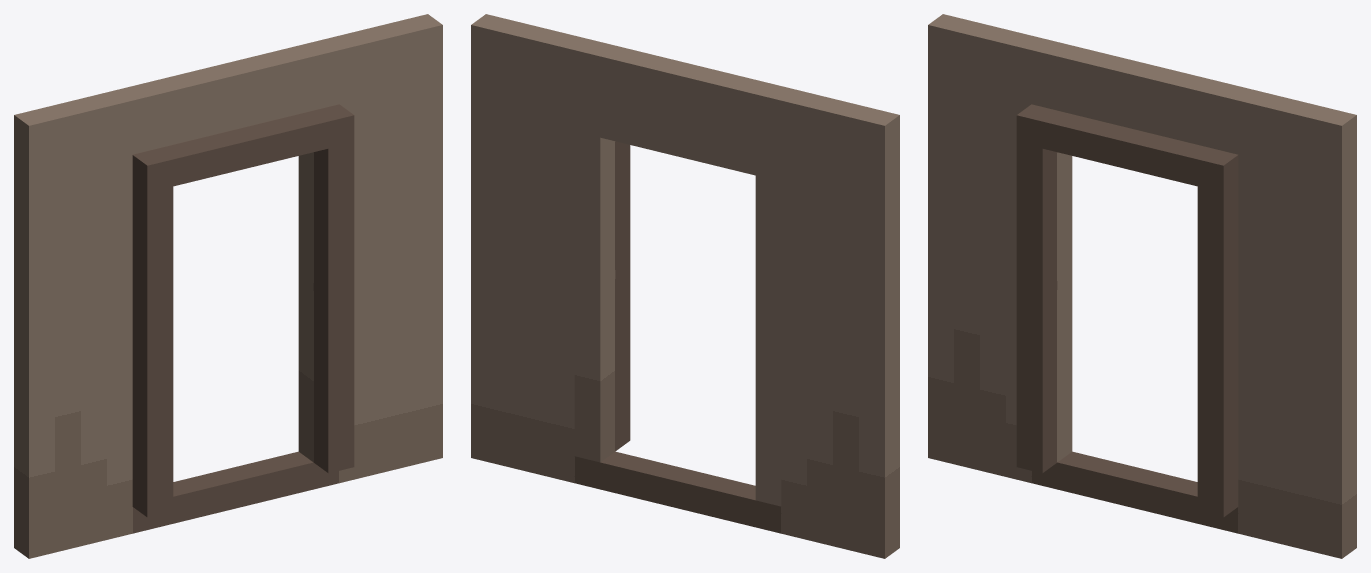
Rendered from wall_door_02.fbx.
3 views of the same model, side by side, from view 1: azimuth 30°, elevation 25°; view 2: azimuth 150°, elevation 25°; view 3: azimuth 330°, elevation 25° (orthographic).
Parts seen in each view (by area): view 1: wall_door_02_0; view 2: wall_door_02_0; view 3: wall_door_02_0.
Boxes of the visible parts, box(x1,y1,x2,y2) form: wall_door_02_0: box(14, 14, 442, 558); wall_door_02_0: box(471, 14, 899, 558); wall_door_02_0: box(928, 14, 1356, 558).
Size of the model in its own units: 1600 by 200 by 1600.
